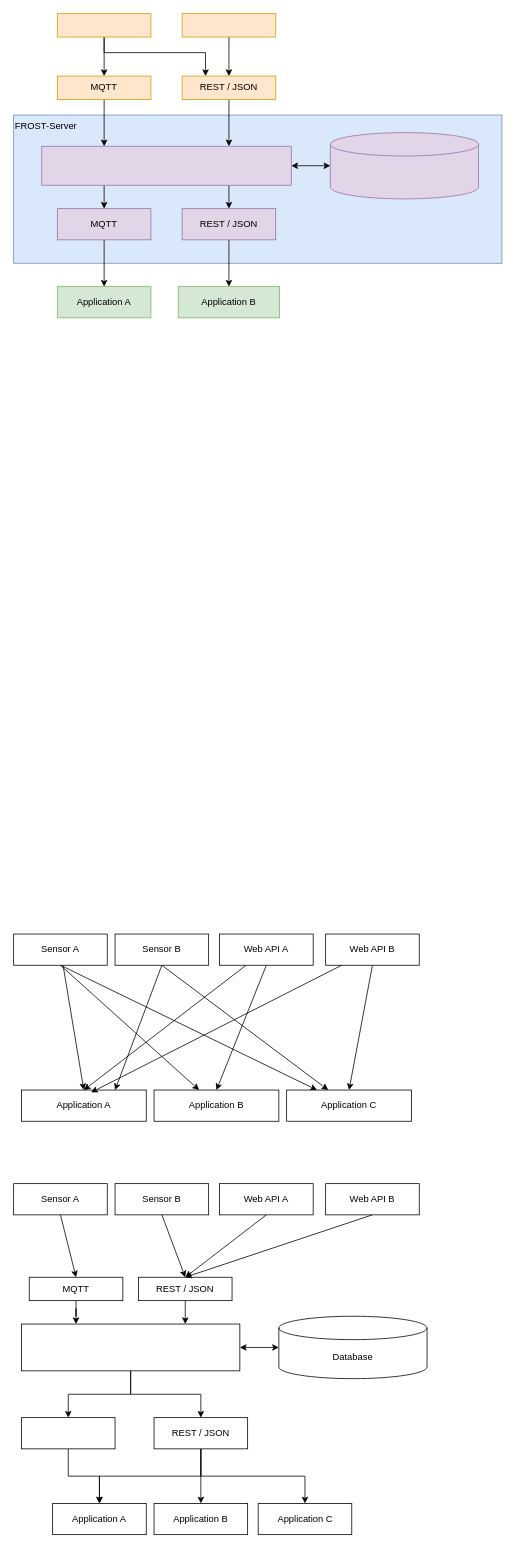
The diagram is 516 pixels wide and 1548 high, and some of its shapes have lost their labels. The centre of each missing label's shape, as x and y in pixels:
Database (PostgreSQL): [404,165]
FROST-Server (SensorThings API): [130,1347]
MQTT Client: [68,1433]
Sensor(s): [104,25]
SensorThings API: [166,165]
Web API(s): [228,25]
